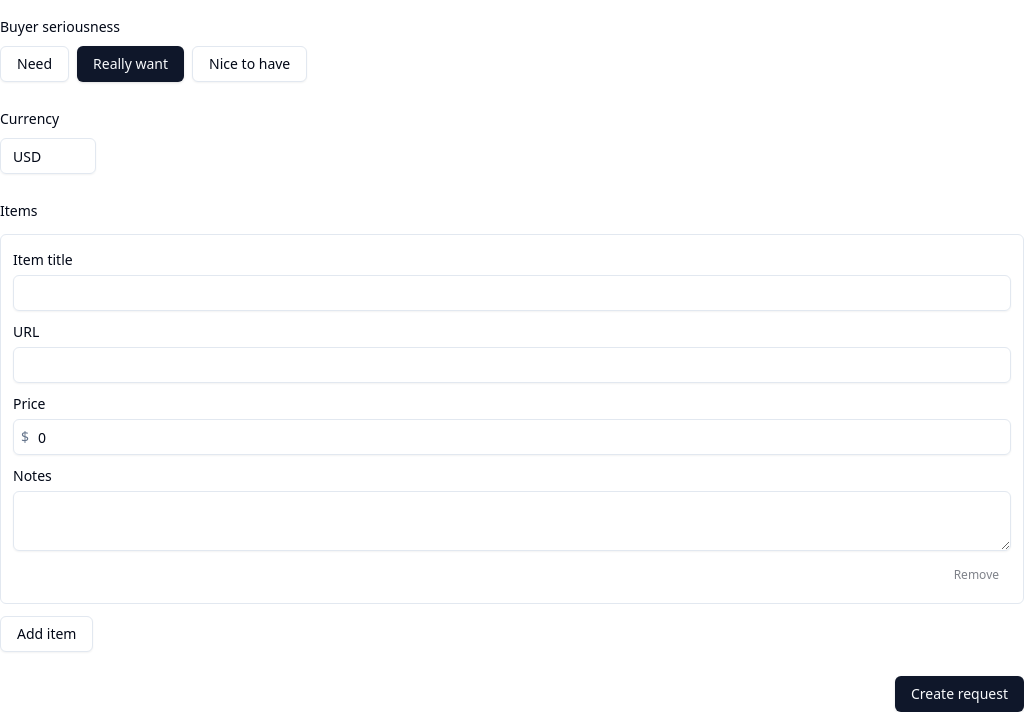
Scenario: RequestForm › add-item button adds a second row
(page scrolled)
Click the button "Add item" at (47, 634), box [0,616,94,652]
(page scrolled)
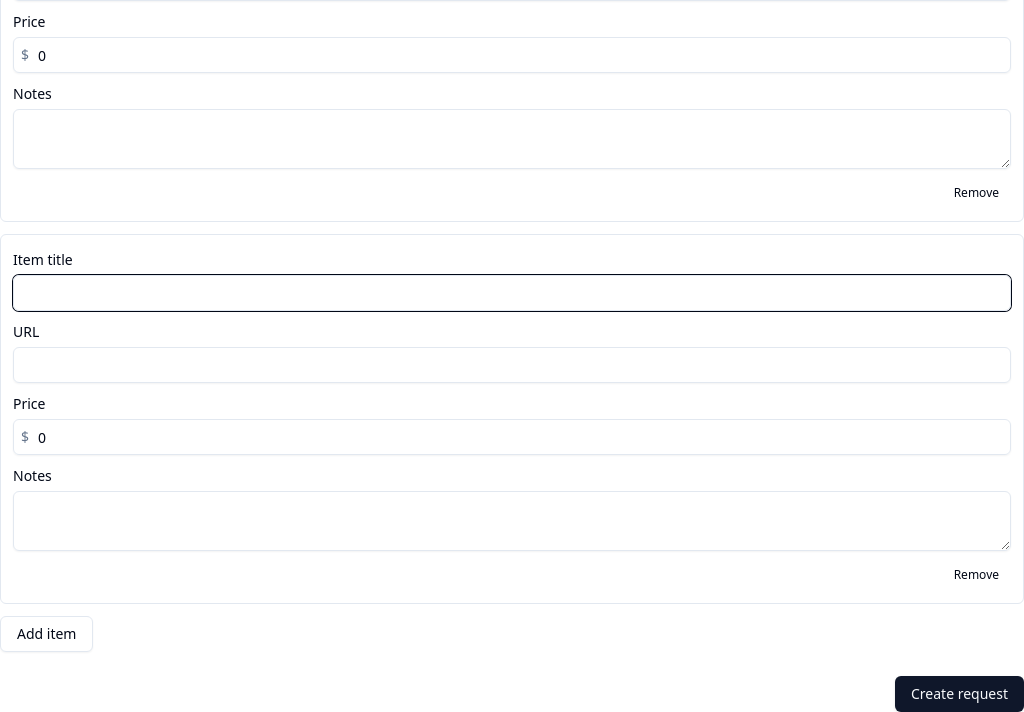
Now the element with test id "item-row-1" is shown, box [0,234,1023,604]
